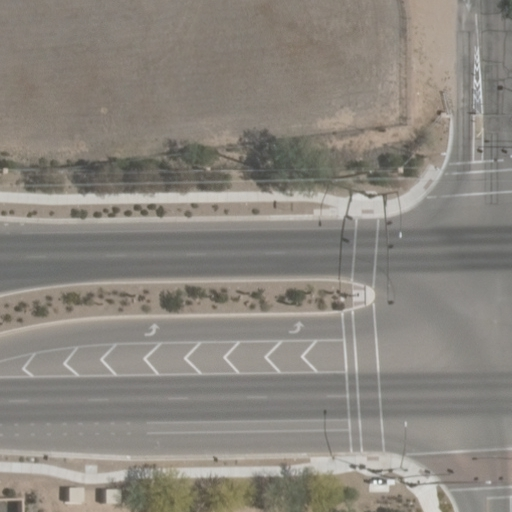DT: (321, 165, 376, 187)
